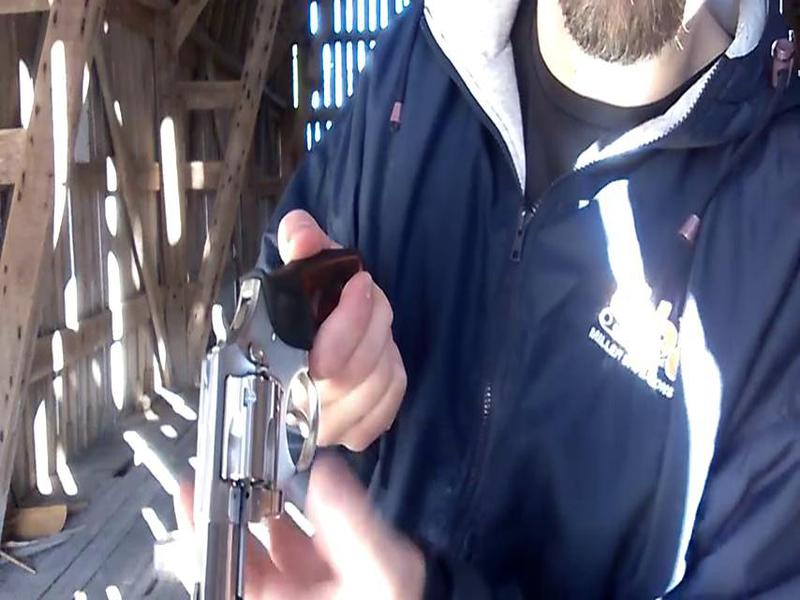Revolver: (171, 240, 397, 600)
